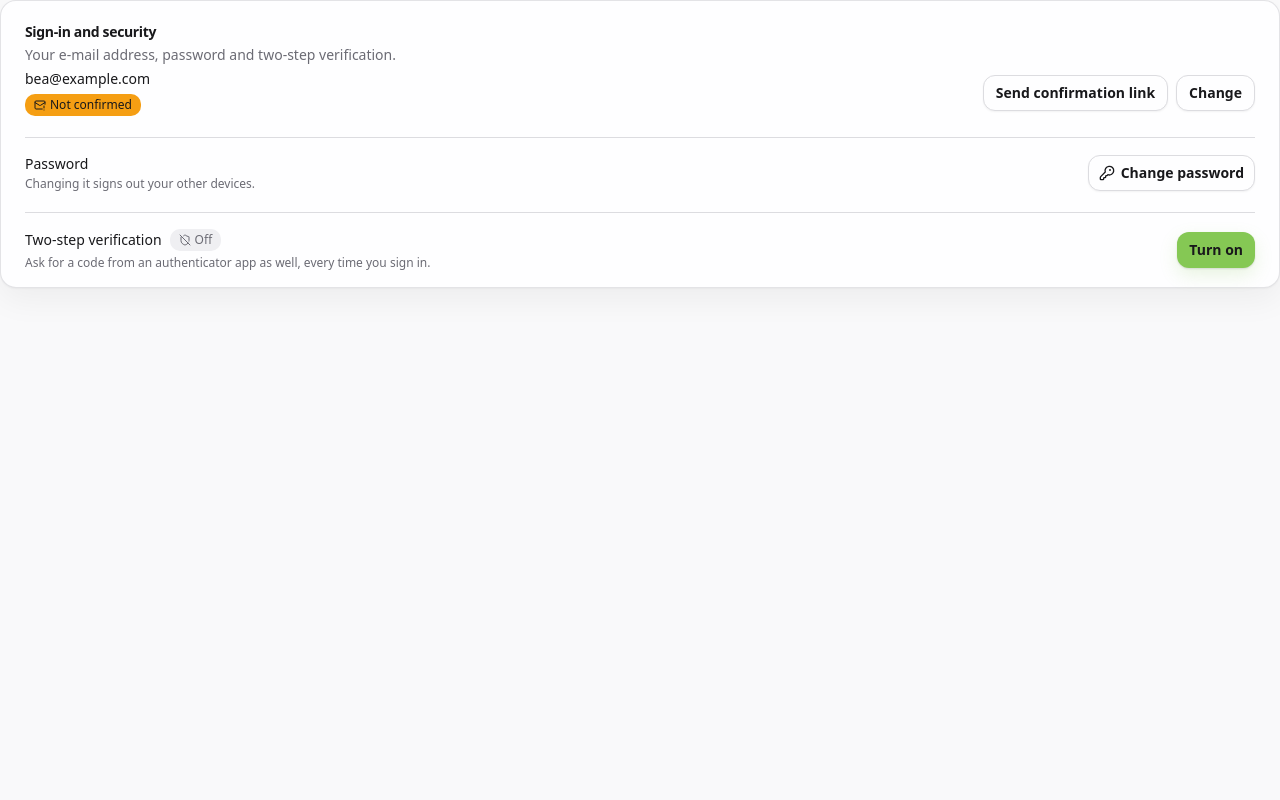
Test case: AccountSecurityCard › changes the password with the current one, and closes when it worked
Click the button "Change password": (1171, 173) top-left (1088, 155), bottom-right (1255, 191)
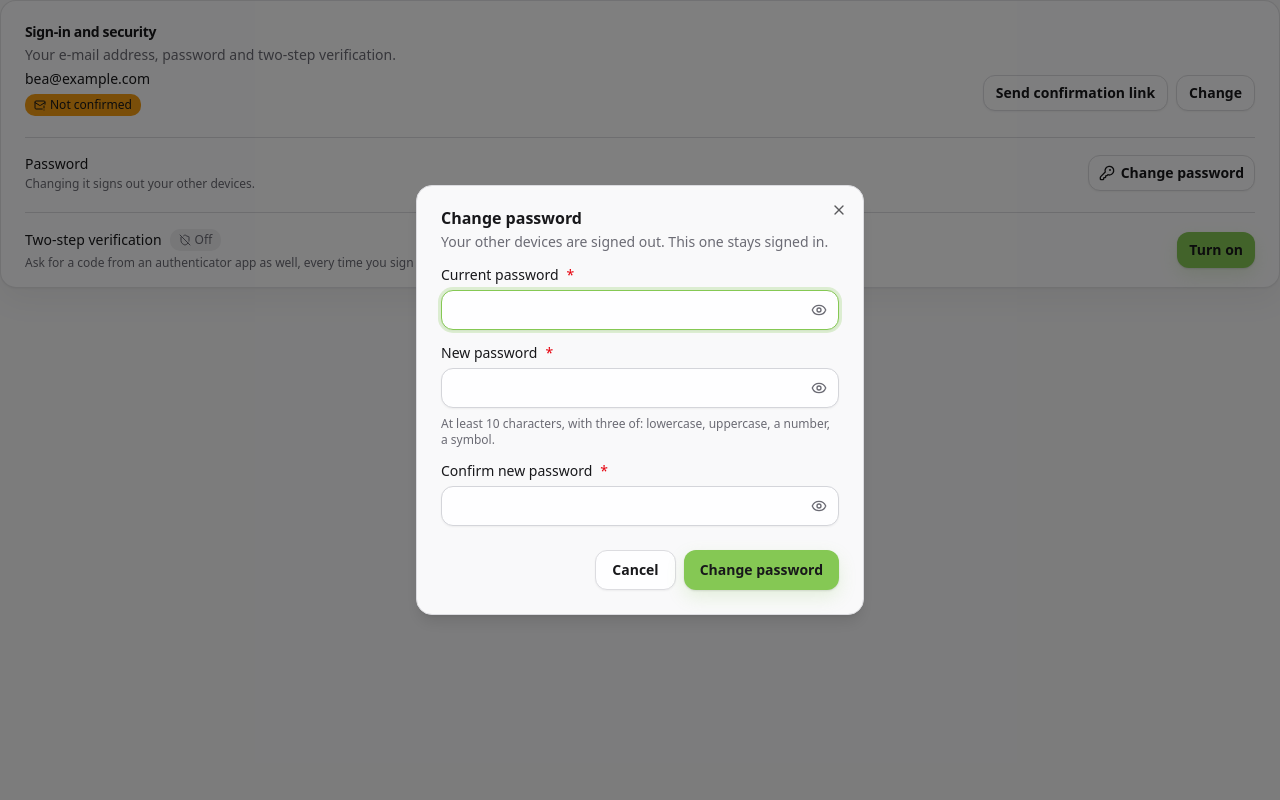
In the password field labelled "Current password *": (640, 310) top-left (441, 290), bottom-right (839, 330), type "Old-pass-2024!"
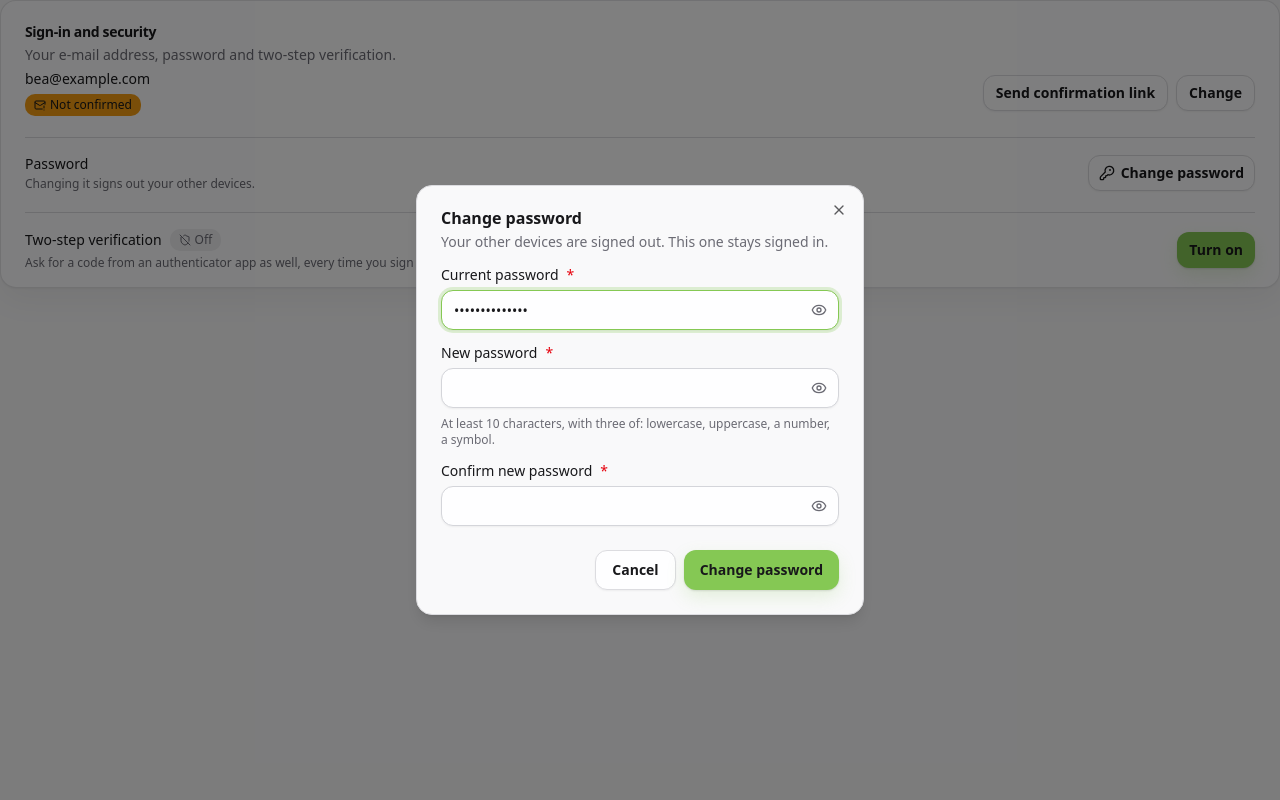
In the password field labelled "New password *": (640, 388) top-left (441, 368), bottom-right (839, 408), type "Brand-new-pass-2026"
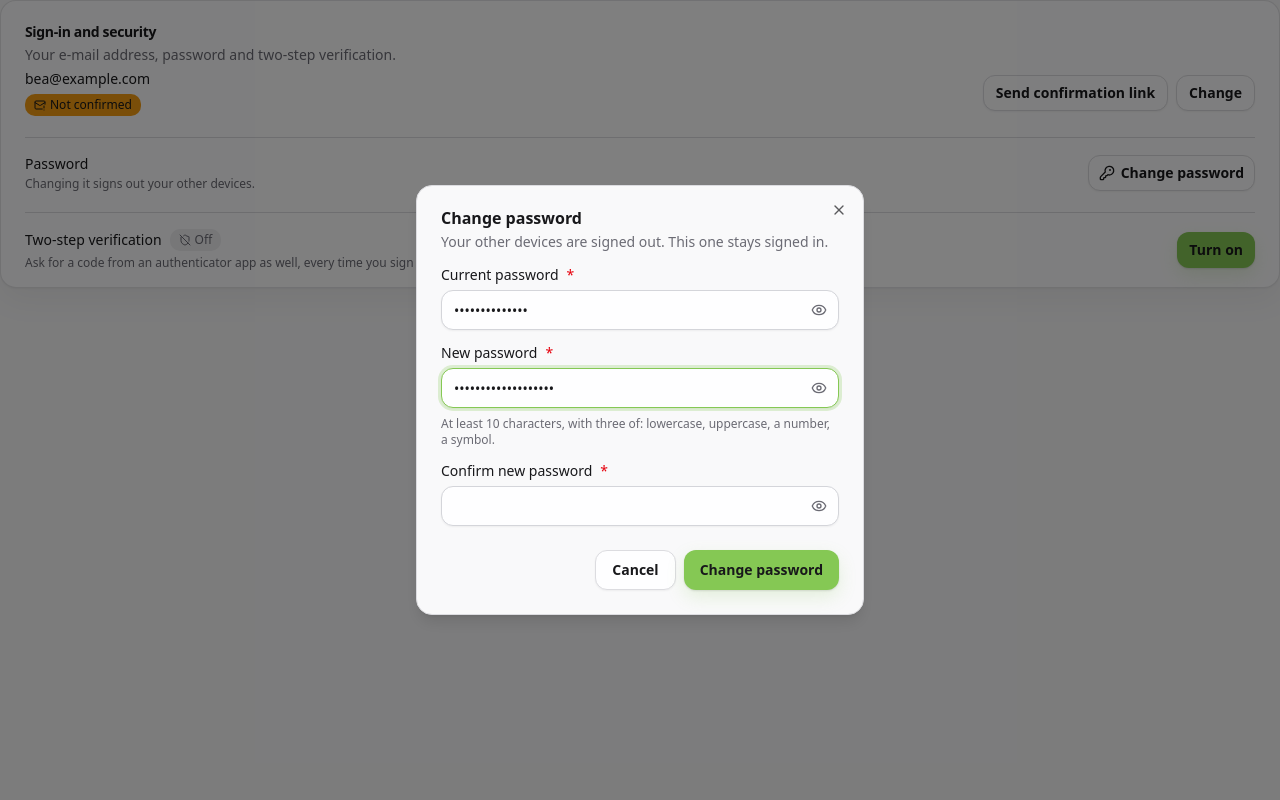
In the password field labelled "Confirm new password *": (640, 506) top-left (441, 486), bottom-right (839, 526), type "Brand-new-pass-2026"
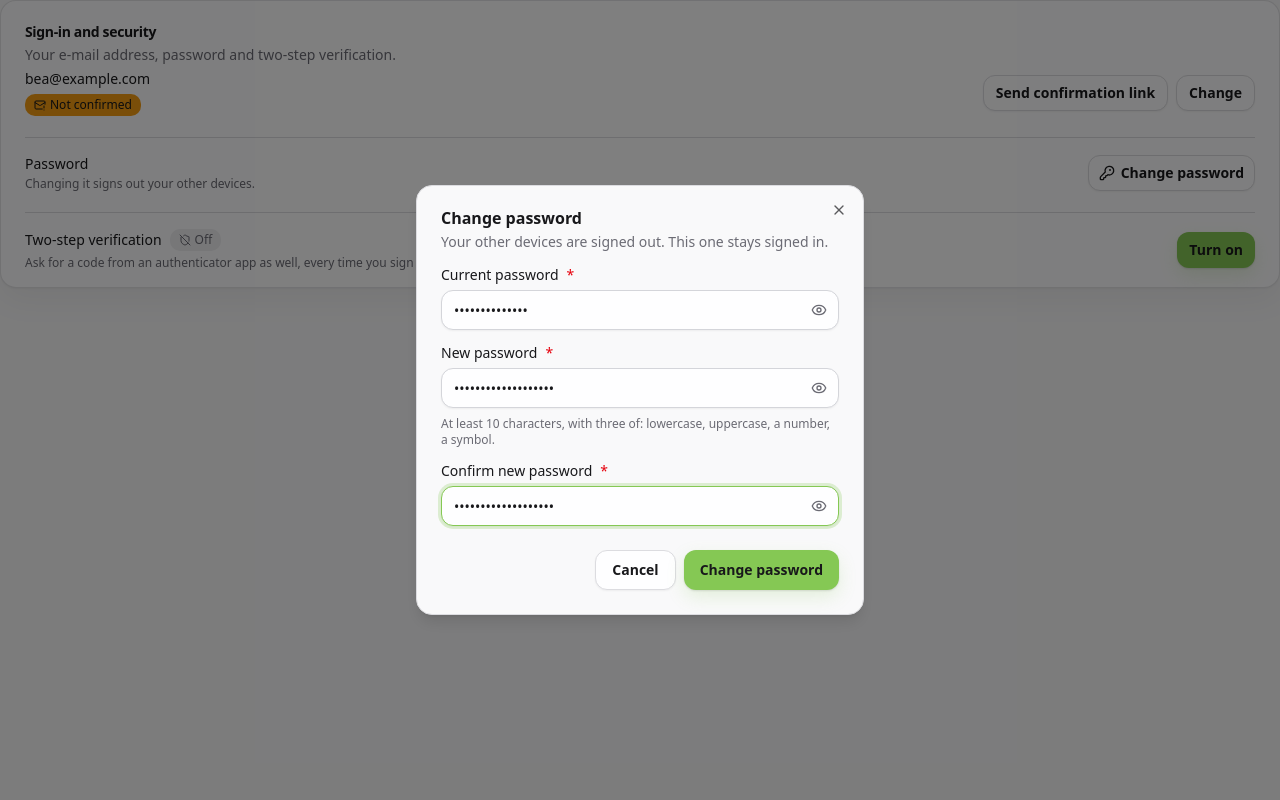
Click the button "Change password": (761, 570) top-left (684, 550), bottom-right (839, 590)
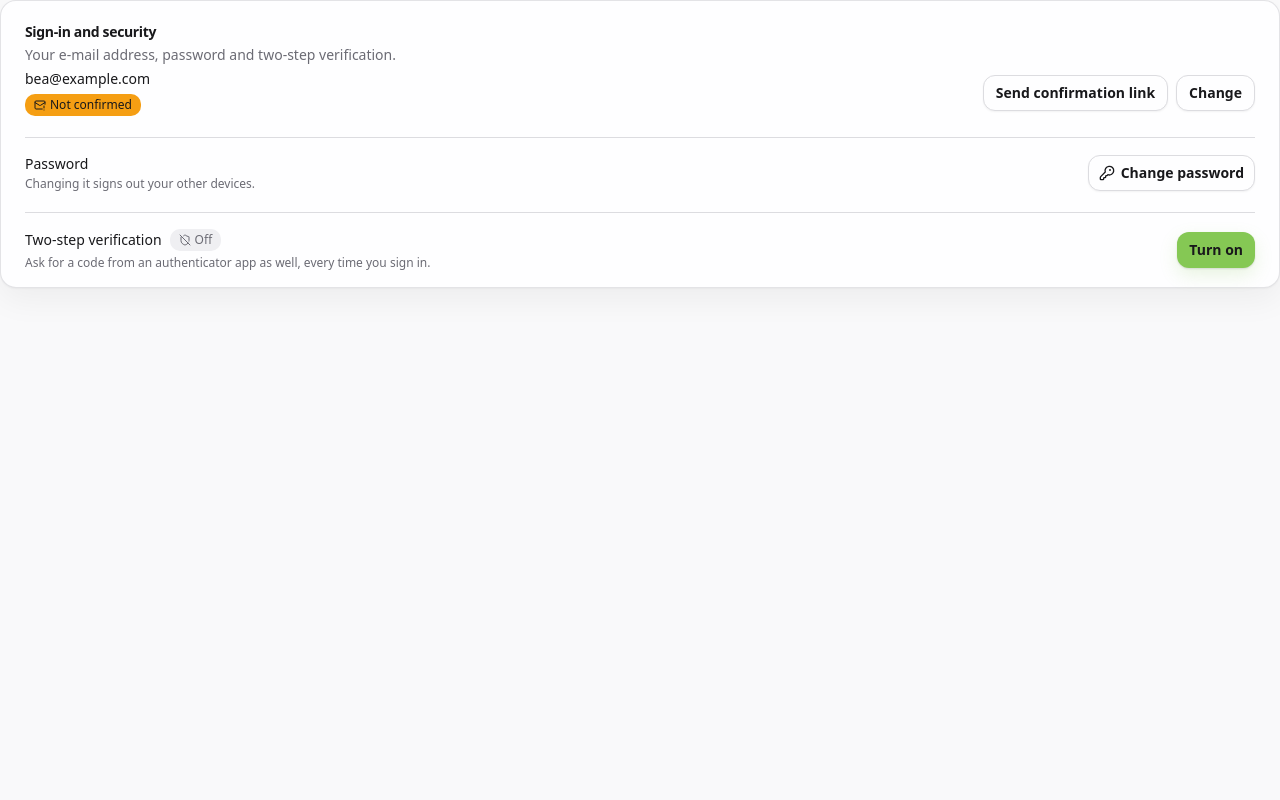
Result: the dialog is gone
